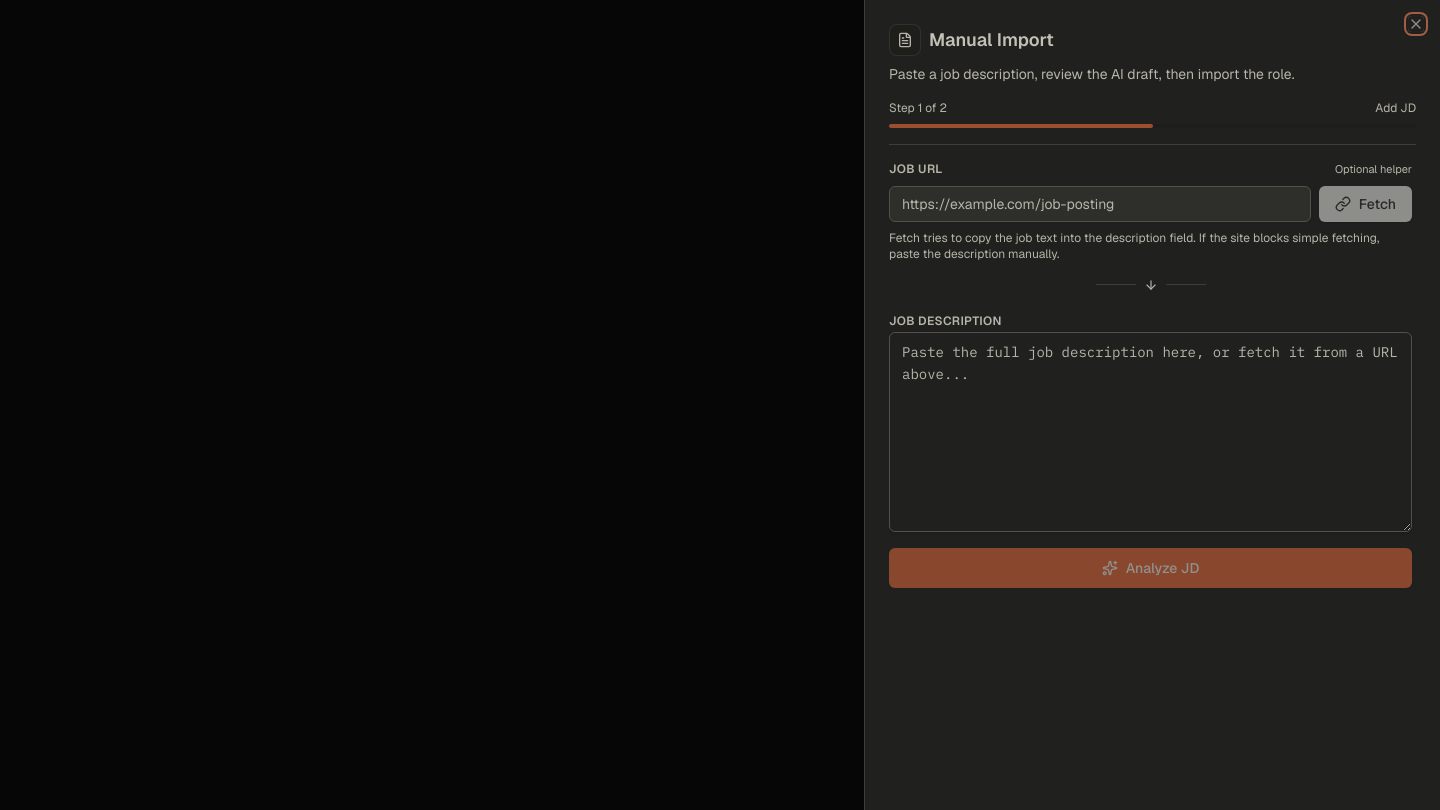
ManualImportSheet › shows warnings and requires required fields before import
The width and height of the screenshot is (1440, 810).
Replace the text in the text box with placeholder "Paste the full job description here, or fetch it from a URL above..." with "Manual QA Engineer role." at (1150, 432), box [889,332,1412,532]
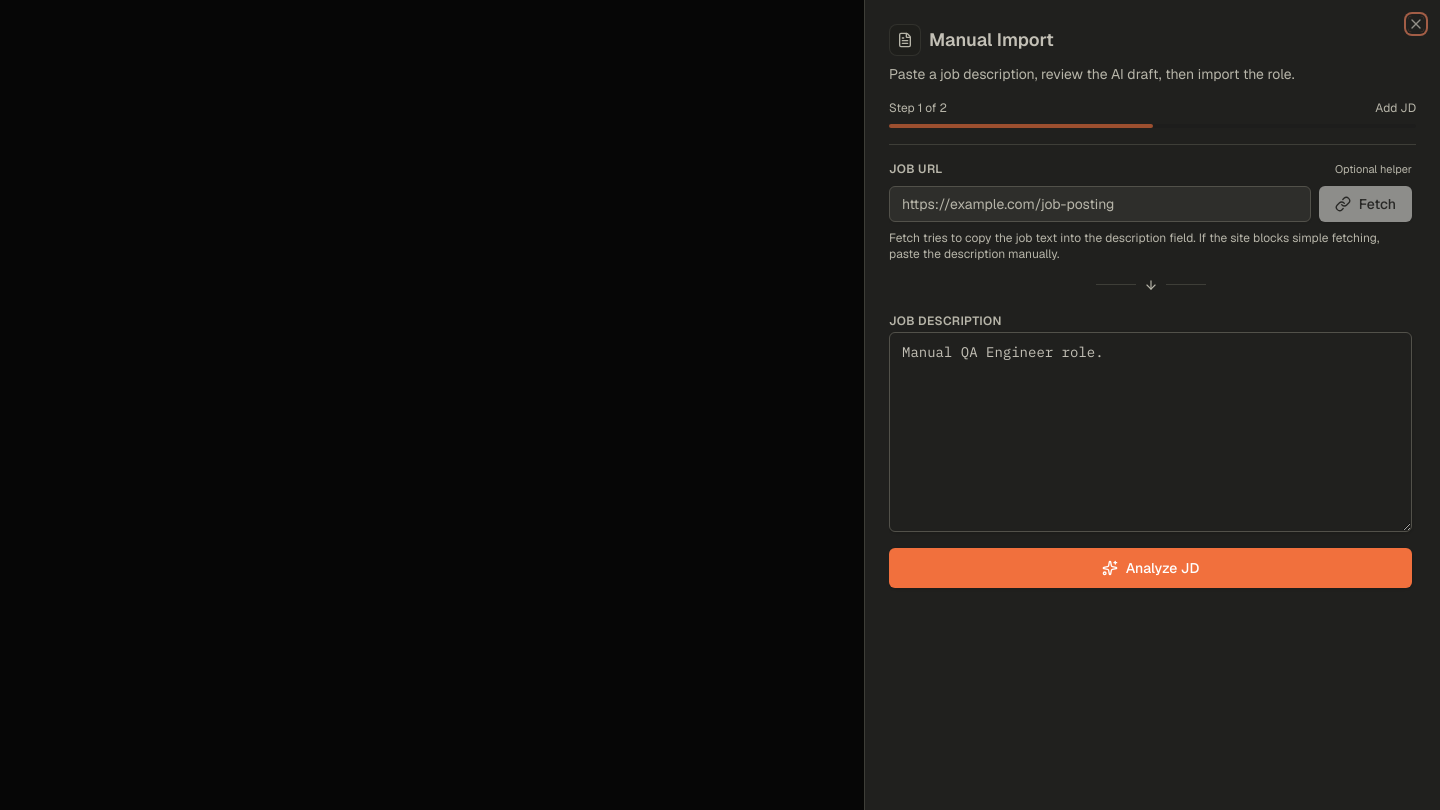
Click the button "Analyze JD" at (1150, 568), box [889,548,1412,588]
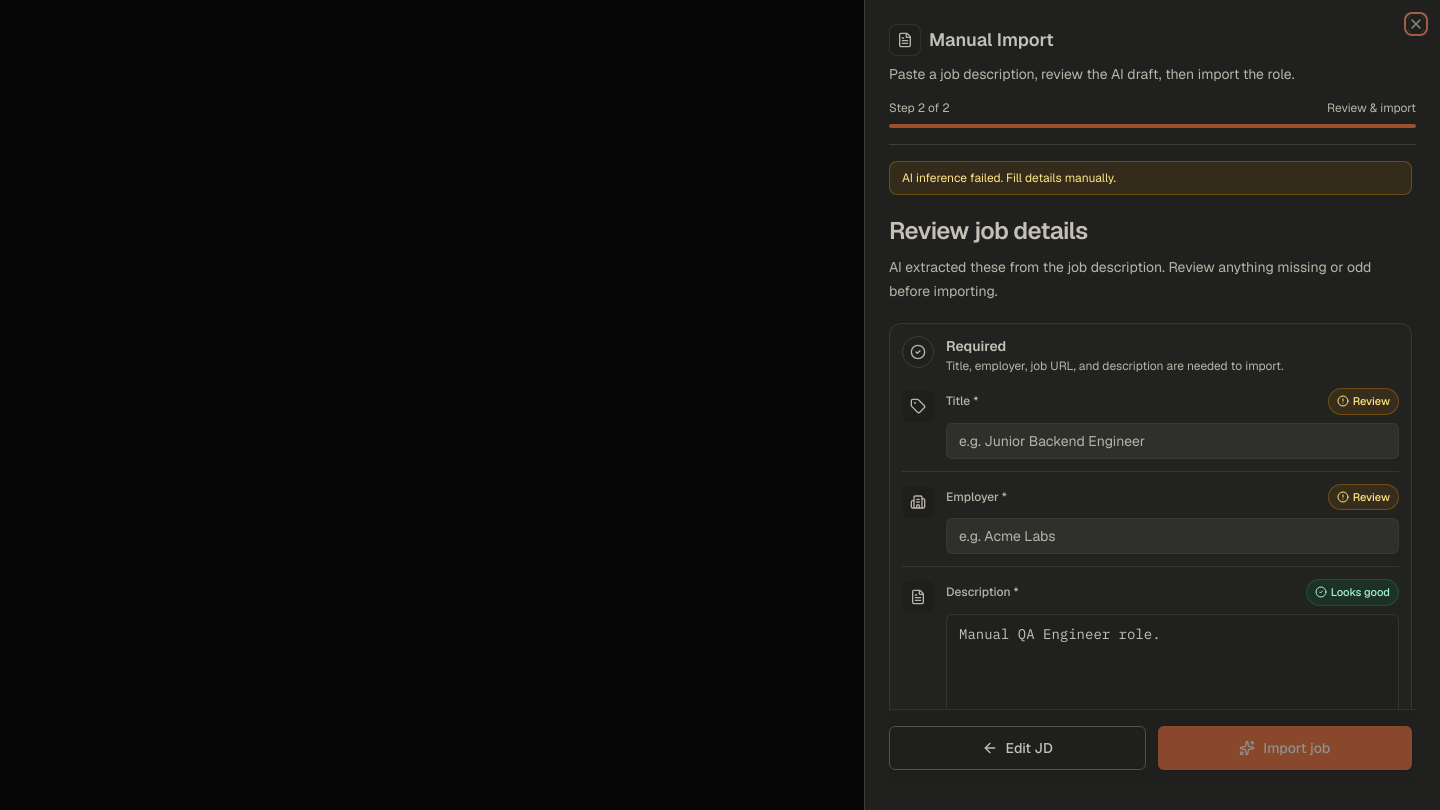
Check: the text "AI inference failed. Fill details manually." is shown, box [889,161,1412,195]
Check: the button "Import job" is disabled, box [1158,726,1412,770]
Type "QA Engineer" into the field with placeholder "e.g. Junior Backend Engineer" at (1172, 440), box [946,422,1399,458]
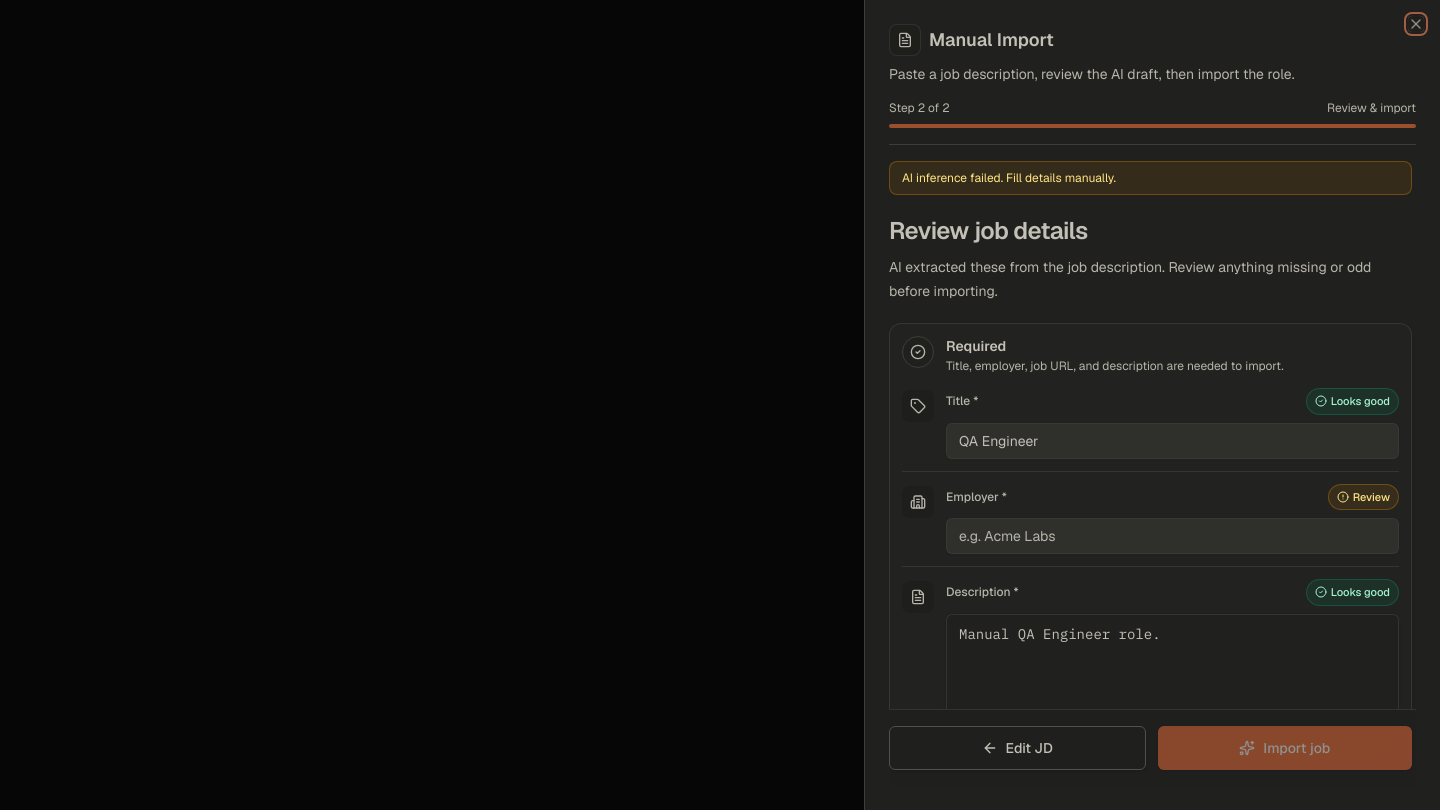
Type "Acme Labs" into the field with placeholder "e.g. Acme Labs" at (1172, 536), box [946,518,1399,554]
(page scrolled)
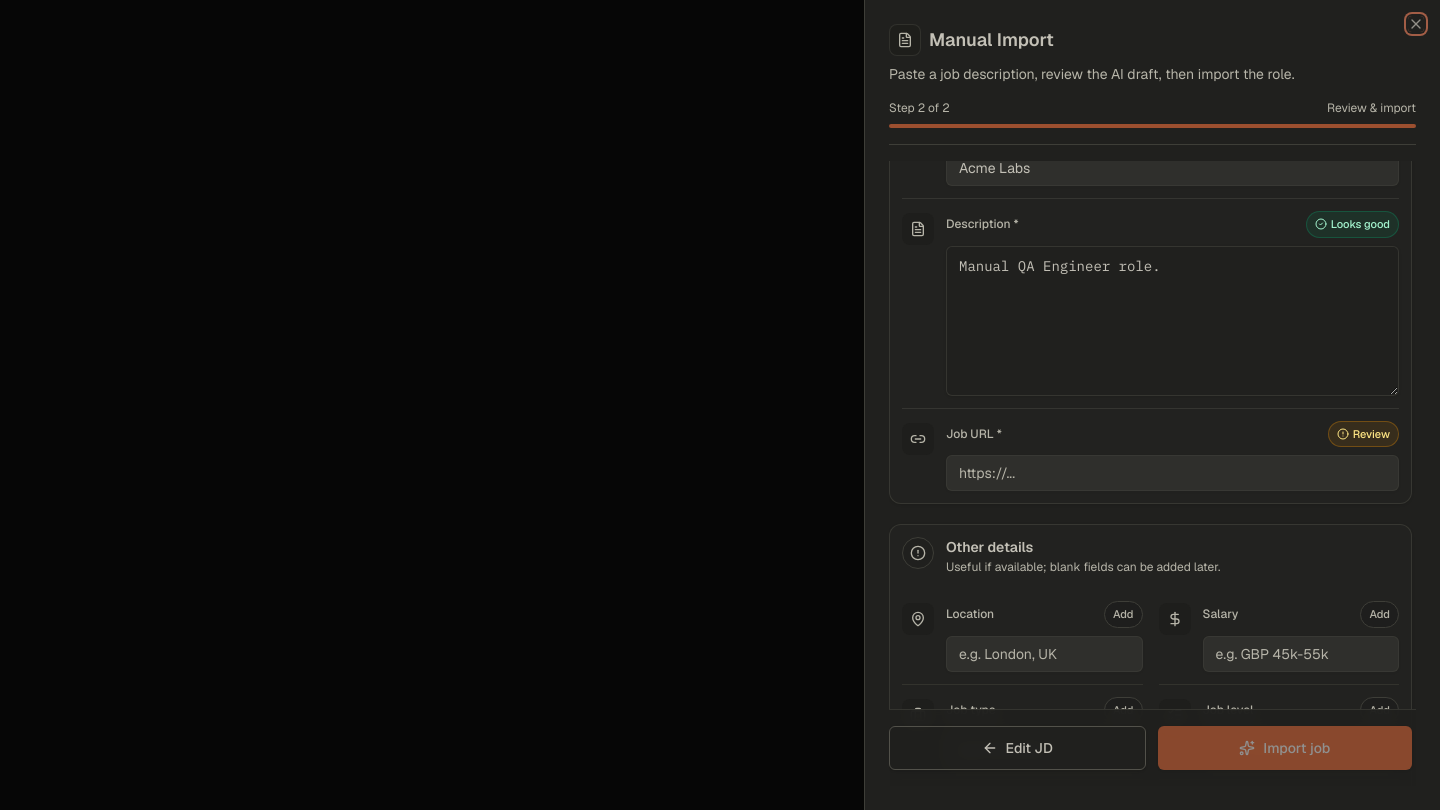
Check: the button "Import job" is disabled, box [1158,726,1412,770]
Type "https://example.com/jobs/qa-engineer" into the field with placeholder "https://..." at (1172, 473), box [946,455,1399,491]
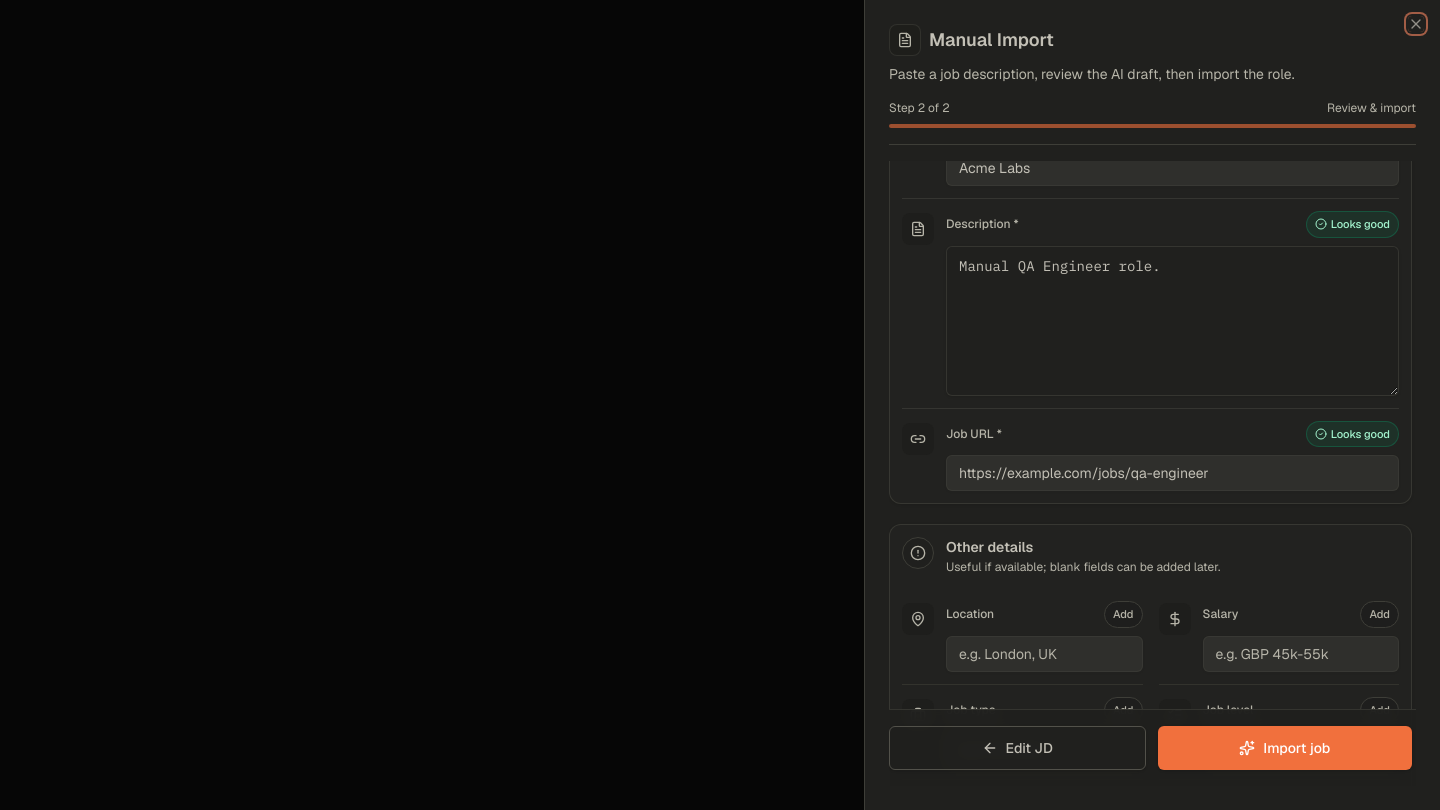
Check: the button "Import job" is enabled, box [1158,726,1412,770]
